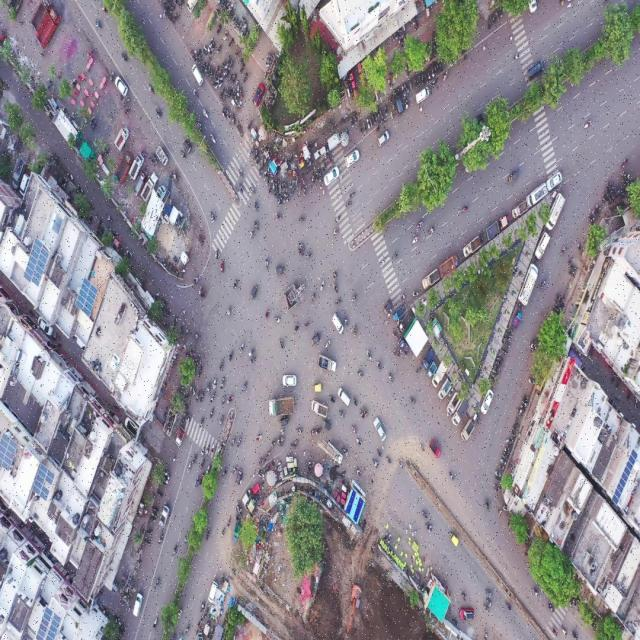3W: (310, 380, 325, 397), (507, 169, 520, 186), (273, 263, 286, 279), (383, 299, 393, 318), (447, 533, 460, 547), (311, 332, 322, 346), (251, 284, 260, 301), (183, 138, 192, 155), (236, 467, 244, 486), (322, 419, 332, 433), (278, 417, 289, 426)
Cars: (534, 232, 550, 260), (527, 56, 544, 80), (372, 416, 386, 443), (481, 388, 494, 417), (336, 384, 351, 409), (331, 311, 344, 337), (547, 171, 563, 191), (323, 167, 340, 185), (394, 87, 404, 117), (133, 591, 143, 620), (345, 150, 361, 168), (252, 84, 265, 106), (190, 65, 203, 86), (282, 372, 298, 389), (115, 76, 128, 96), (458, 607, 475, 622), (377, 130, 390, 149), (416, 87, 430, 103), (208, 578, 217, 602)
LCV: (519, 263, 539, 305), (547, 192, 567, 232), (526, 180, 547, 208), (440, 254, 459, 279), (142, 174, 158, 203), (453, 399, 468, 428), (463, 236, 482, 258), (130, 151, 144, 180), (114, 126, 129, 153), (422, 269, 441, 289), (459, 420, 476, 442), (316, 356, 339, 372), (311, 399, 330, 417), (446, 393, 461, 415), (428, 437, 443, 458), (397, 314, 411, 335), (159, 504, 170, 530), (438, 378, 451, 400), (326, 132, 341, 151), (511, 200, 527, 217), (156, 144, 168, 166), (422, 347, 434, 369), (399, 337, 411, 356), (511, 309, 522, 329), (393, 305, 405, 322), (175, 427, 185, 446), (427, 362, 437, 378)
M2W: (582, 117, 594, 133), (539, 275, 548, 294), (189, 87, 202, 99), (153, 575, 162, 591), (218, 357, 226, 373), (483, 496, 491, 512), (172, 540, 179, 558), (550, 624, 559, 638), (390, 251, 401, 262), (237, 340, 245, 355), (531, 585, 539, 600), (146, 83, 154, 98), (512, 51, 522, 63), (218, 527, 227, 540), (272, 313, 281, 326), (459, 589, 468, 602), (547, 601, 556, 614), (94, 19, 103, 32), (199, 597, 206, 613), (236, 167, 246, 178), (153, 615, 159, 633), (424, 523, 433, 535), (411, 233, 420, 245), (323, 337, 332, 349), (371, 457, 380, 469), (504, 603, 513, 615), (199, 415, 206, 430), (178, 148, 186, 161), (408, 395, 416, 408), (350, 293, 359, 304), (228, 349, 235, 363), (248, 228, 255, 242), (352, 325, 359, 339), (249, 355, 257, 367), (226, 393, 234, 405), (421, 508, 429, 520), (560, 625, 568, 637), (331, 283, 339, 295), (560, 244, 568, 256), (195, 120, 203, 132), (576, 243, 584, 255), (248, 345, 255, 358), (209, 392, 216, 405), (209, 407, 216, 420), (335, 212, 342, 225), (210, 132, 217, 145), (108, 71, 115, 84), (329, 393, 336, 406), (344, 315, 351, 328), (377, 445, 384, 458), (397, 457, 404, 470), (400, 290, 407, 303), (205, 527, 211, 542), (220, 375, 226, 390), (215, 245, 221, 260), (486, 588, 495, 598), (411, 288, 420, 298), (378, 256, 387, 266), (333, 299, 342, 309), (566, 269, 575, 279), (427, 226, 435, 237), (365, 349, 373, 360), (253, 198, 258, 215), (185, 622, 192, 634), (200, 443, 206, 457), (211, 377, 217, 391), (226, 303, 232, 317), (219, 259, 225, 273), (254, 218, 260, 232), (264, 306, 270, 320), (177, 608, 184, 620), (571, 628, 578, 640), (331, 269, 337, 283), (303, 319, 310, 331), (237, 182, 244, 194), (121, 52, 128, 64), (386, 453, 392, 467), (418, 443, 425, 455), (211, 39, 217, 53), (248, 186, 257, 195), (461, 204, 469, 214), (350, 424, 358, 434), (357, 369, 365, 379), (202, 109, 210, 119), (222, 466, 228, 479), (209, 211, 215, 224), (242, 380, 248, 393), (218, 414, 224, 427), (187, 461, 193, 474), (199, 457, 205, 470), (158, 532, 164, 545), (222, 393, 228, 406), (199, 390, 205, 403), (319, 279, 325, 292), (294, 321, 300, 334), (194, 475, 200, 488), (355, 465, 361, 478), (190, 384, 196, 397), (235, 46, 241, 59), (231, 278, 238, 289), (297, 248, 304, 259), (124, 104, 131, 115), (376, 360, 383, 371), (205, 442, 210, 457), (363, 400, 368, 415), (206, 464, 212, 476), (236, 435, 242, 447), (230, 435, 236, 447), (255, 433, 263, 442), (415, 221, 424, 229), (333, 227, 341, 236), (311, 291, 317, 303), (342, 447, 350, 456), (356, 437, 362, 449), (143, 538, 151, 547), (248, 146, 254, 158), (259, 161, 265, 173), (526, 377, 535, 385), (92, 119, 98, 131), (210, 441, 215, 455), (264, 258, 269, 272), (486, 598, 493, 608), (347, 191, 357, 198), (200, 471, 205, 485), (296, 425, 303, 435), (216, 21, 221, 35), (232, 464, 238, 475), (448, 471, 454, 482), (279, 338, 285, 349), (239, 63, 245, 74), (219, 88, 225, 99), (246, 120, 252, 131), (326, 153, 332, 164), (431, 78, 437, 89), (223, 29, 228, 42), (228, 36, 233, 49), (208, 36, 213, 49), (350, 116, 355, 129), (490, 13, 495, 26), (554, 292, 559, 305), (495, 469, 502, 478), (305, 252, 314, 259), (299, 216, 306, 225), (276, 213, 283, 222), (154, 109, 161, 118), (157, 490, 164, 499), (227, 515, 232, 527), (483, 603, 489, 613), (353, 395, 358, 407), (387, 372, 393, 382), (227, 54, 232, 66), (210, 68, 215, 80), (214, 65, 219, 77), (214, 80, 219, 92), (290, 186, 295, 198), (358, 123, 363, 135), (387, 78, 392, 90), (89, 116, 95, 126), (346, 200, 353, 208), (299, 242, 306, 250), (232, 113, 236, 127), (487, 18, 491, 32), (503, 341, 510, 349), (242, 71, 247, 82), (339, 408, 345, 417), (415, 367, 421, 376), (301, 176, 307, 185), (567, 256, 573, 265), (181, 412, 185, 425), (266, 175, 270, 188), (278, 181, 282, 194), (379, 107, 383, 120), (421, 73, 425, 86), (495, 9, 499, 22), (480, 231, 484, 244), (205, 62, 210, 72), (145, 529, 152, 536), (495, 487, 502, 494), (498, 464, 505, 471), (553, 306, 560, 313), (193, 452, 197, 464), (124, 96, 130, 104), (206, 382, 210, 394), (199, 366, 203, 378), (240, 87, 244, 99), (217, 43, 221, 55), (290, 178, 294, 190), (315, 171, 319, 183), (376, 105, 380, 117), (402, 85, 406, 97), (413, 77, 417, 89), (434, 66, 438, 78), (494, 478, 502, 484), (520, 399, 528, 405), (359, 409, 364, 418), (513, 422, 518, 431), (236, 80, 240, 91), (228, 73, 232, 84), (202, 60, 206, 71), (225, 85, 229, 96), (263, 170, 267, 181), (322, 161, 326, 172), (439, 62, 443, 73), (258, 473, 265, 479), (202, 49, 208, 56), (275, 181, 278, 195), (363, 121, 366, 135), (385, 104, 388, 118), (500, 349, 507, 355), (497, 355, 504, 361), (494, 365, 500, 372), (499, 459, 506, 465), (570, 265, 576, 272), (520, 405, 527, 411), (510, 430, 516, 437), (232, 73, 236, 83), (228, 88, 232, 98), (256, 158, 260, 168), (404, 83, 408, 93), (197, 390, 200, 403), (273, 180, 276, 193), (319, 170, 322, 183), (353, 112, 356, 125), (405, 99, 408, 112), (230, 59, 233, 71), (222, 60, 226, 69), (204, 46, 210, 52), (219, 78, 223, 87), (369, 116, 372, 128), (371, 115, 375, 124), (409, 78, 412, 90), (418, 75, 421, 87), (425, 73, 428, 85), (150, 512, 157, 517), (504, 447, 511, 452), (282, 182, 285, 193), (285, 182, 288, 193), (437, 65, 440, 75), (502, 454, 507, 460), (377, 120, 379, 132)
Truck: (35, 6, 57, 46), (268, 397, 297, 419), (116, 151, 132, 186)
